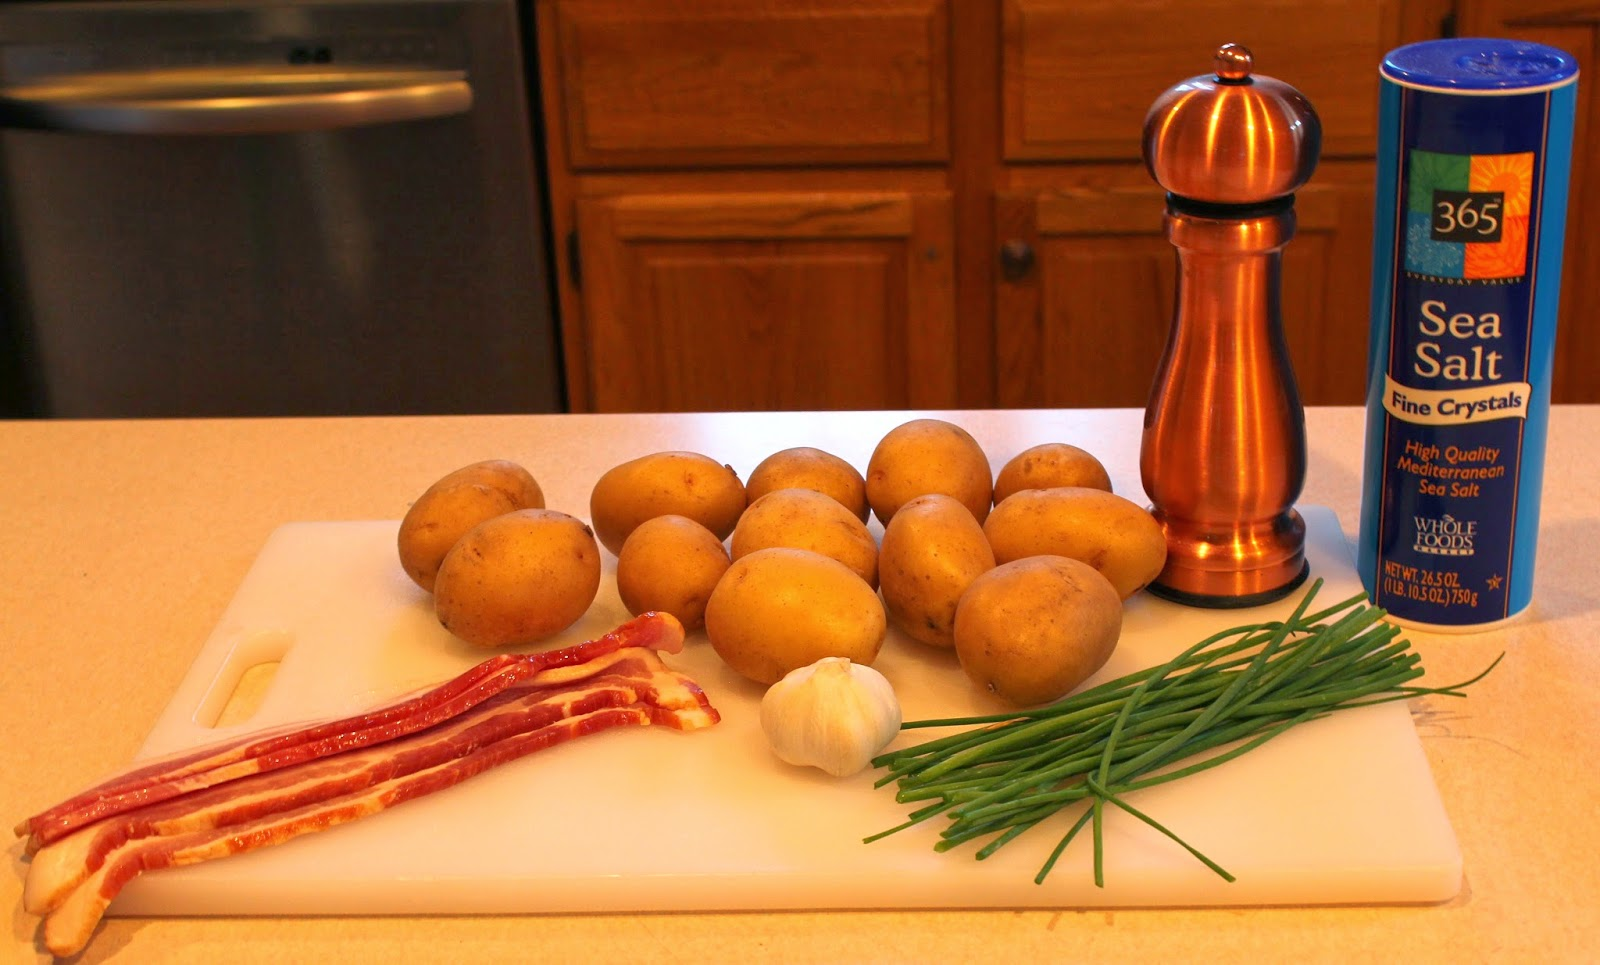boiled potatoes: (405, 447, 1159, 667), (397, 472, 599, 652), (686, 544, 899, 676), (947, 565, 1126, 715), (583, 450, 749, 549)
